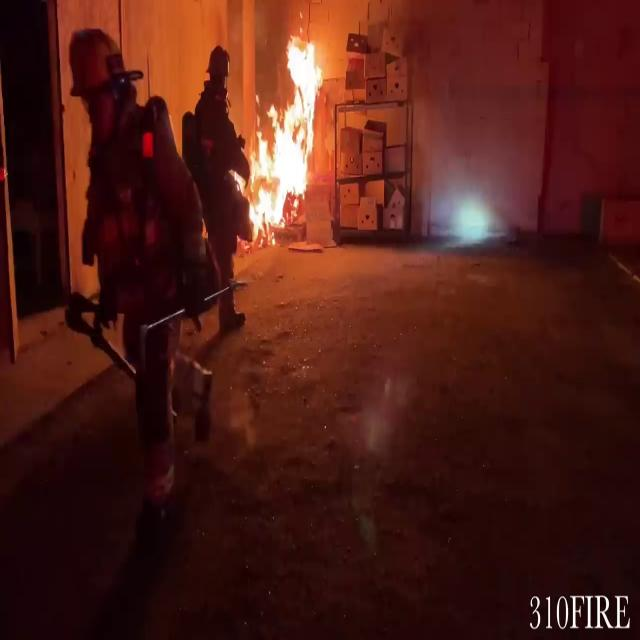Fire: (245, 27, 327, 241)
